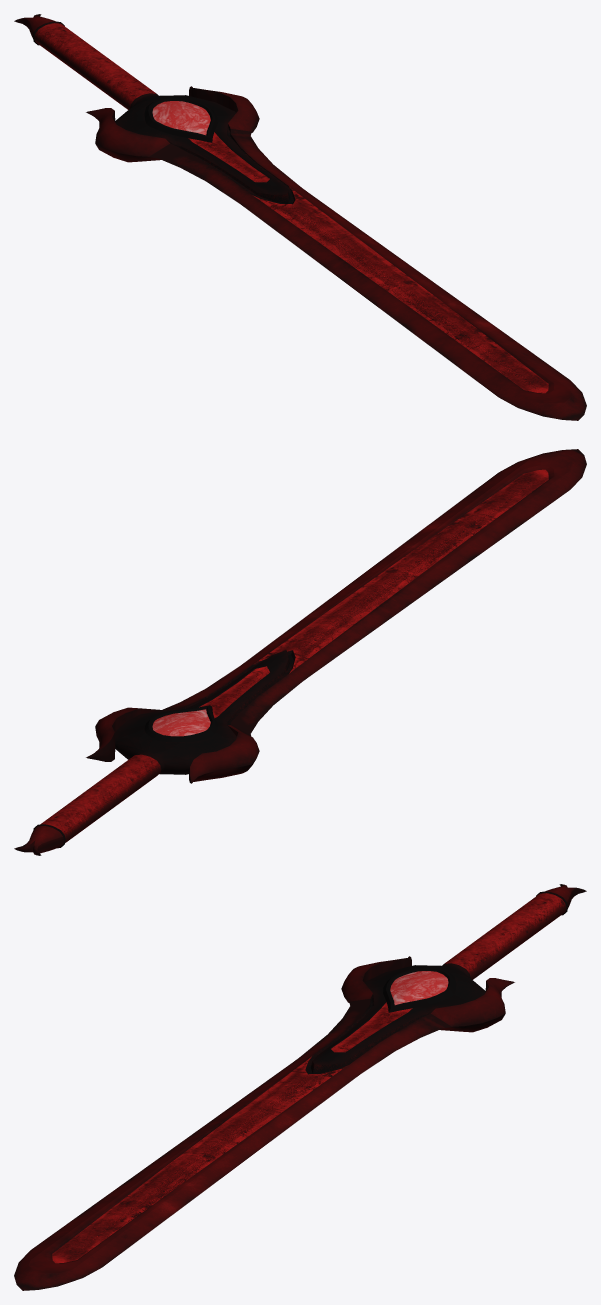
Rendered from FireSword.fbx.
3 renders of one model, top to bottom at view 1: azimuth 30°, elevation 25°; view 2: azimuth 150°, elevation 25°; view 3: azimuth 330°, elevation 25°, orthographic.
Parts seen in each view (by area): view 1: FireSword; view 2: FireSword; view 3: FireSword.
Boxes of the visible parts, x1,y1,x2,y2 form: FireSword: [14, 14, 586, 420]; FireSword: [14, 449, 586, 855]; FireSword: [14, 884, 586, 1290].
Size of the model in its own units: 18.48 by 4.5 by 113.
